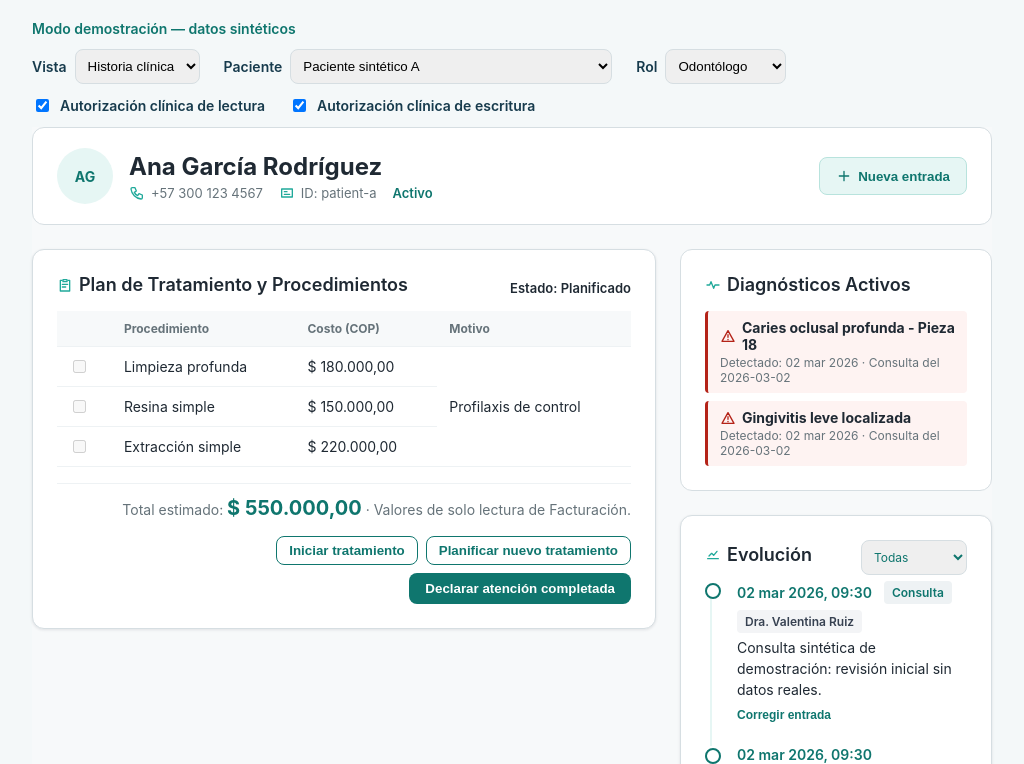
it: ClinicalPortalComposition › records a diagnosis linked to the selected consultation
The image size is (1024, 764).
Expected: the text "Consulta sintética de demostración: revisión inicial sin datos reales." is shown, [737, 636, 967, 700]
Click the button "Nueva entrada" at [893, 176], box [819, 157, 967, 195]
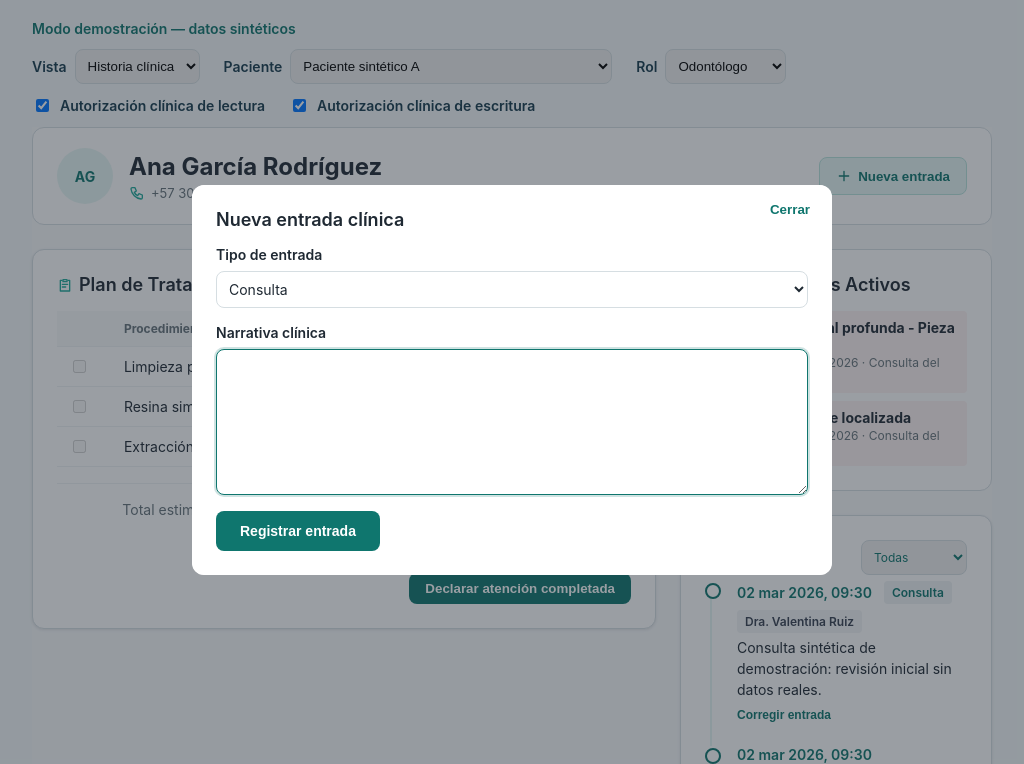
Select "Diagnóstico" in the dropdown labelled "Tipo de entrada" at [512, 290], box [216, 271, 808, 308]
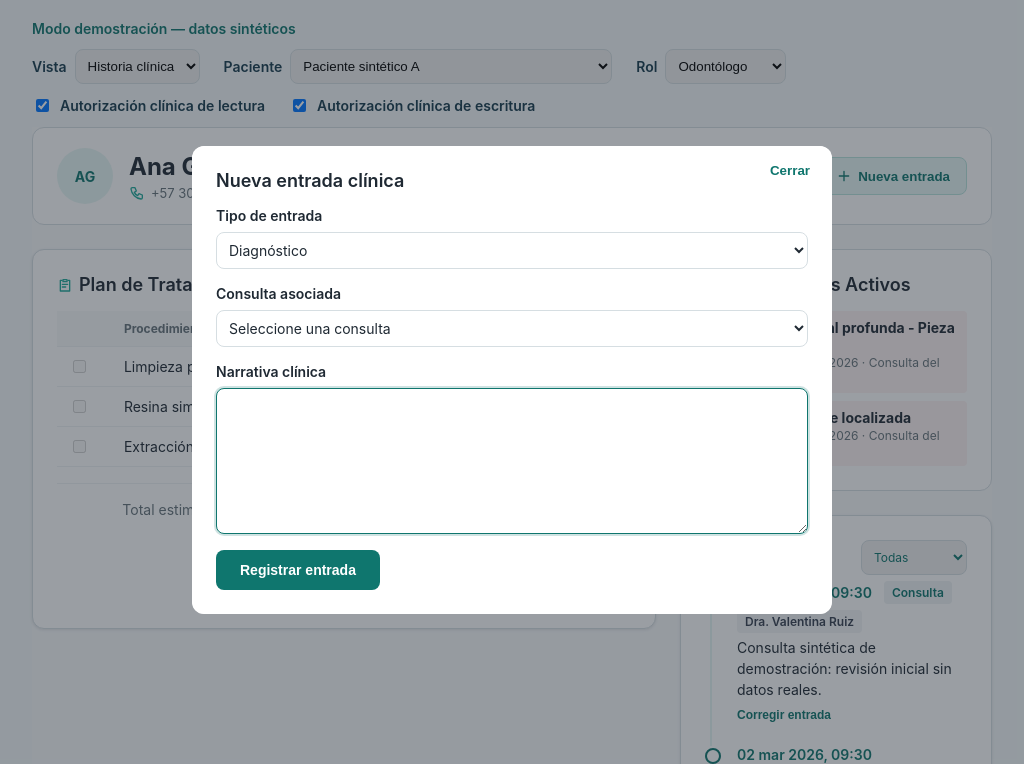
Select "2026-03-02 · Consulta sintética de demostración: revi…" in the dropdown labelled "Consulta asociada" at [512, 328], box [216, 310, 808, 347]
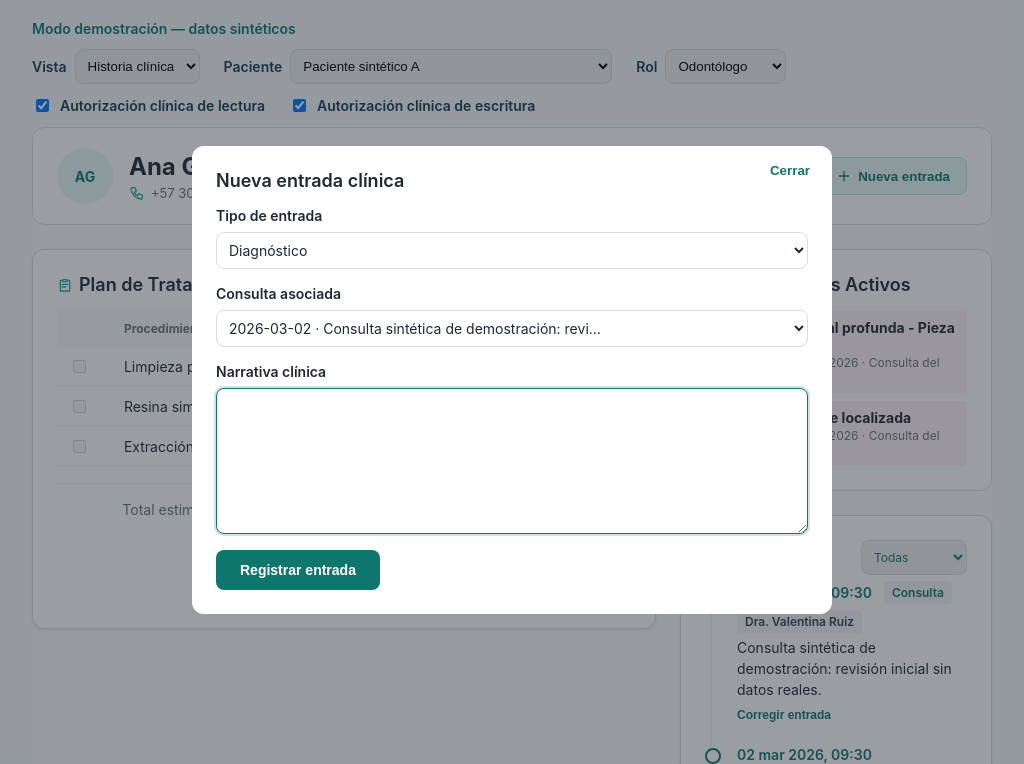
Type "Caries oclusal profunda" into the text box labelled "Narrativa clínica" at [512, 461], box [216, 388, 808, 534]
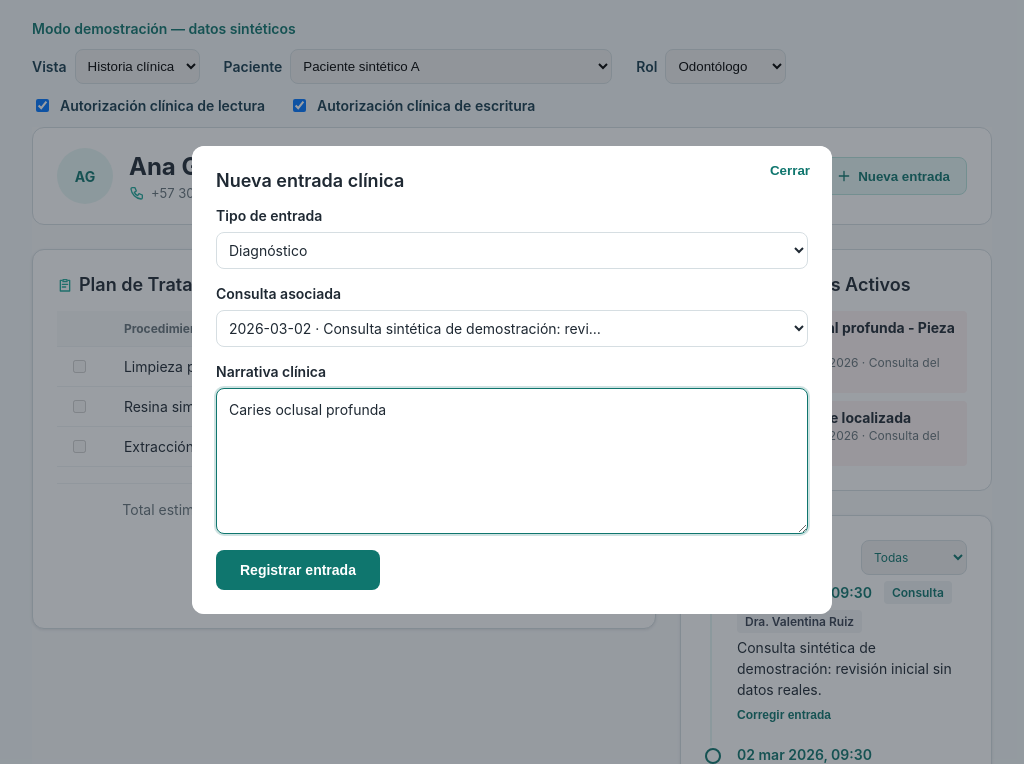
Click the button "Registrar entrada" at [298, 570], box [216, 550, 380, 590]
(page scrolled)
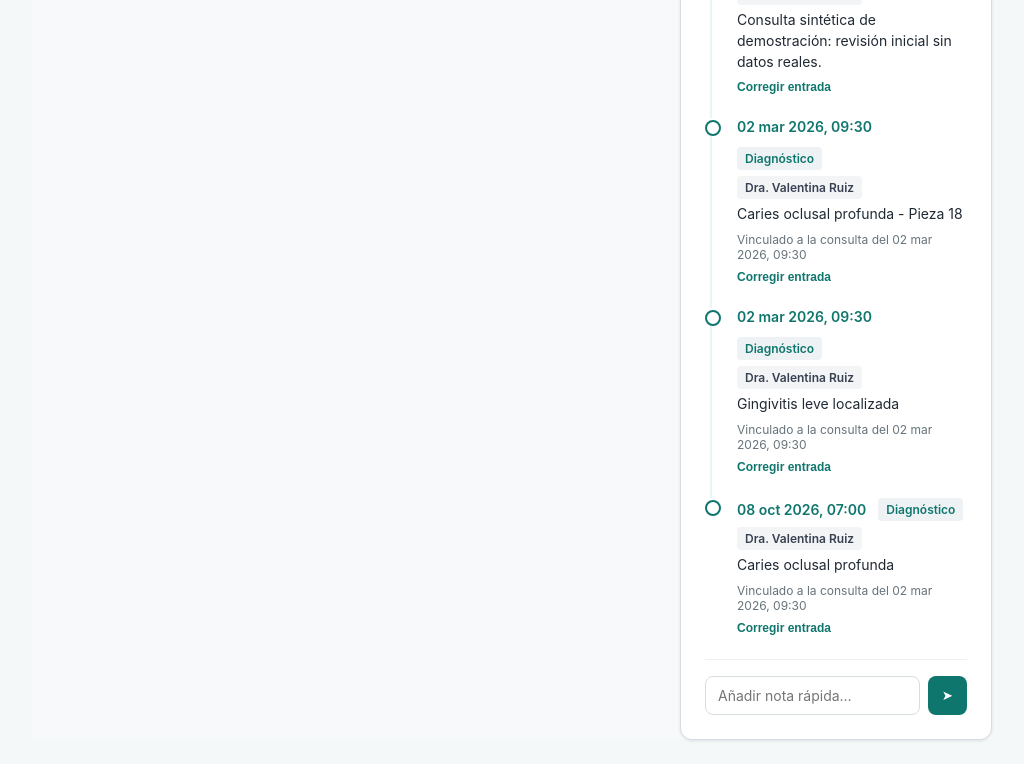
Result: the text "Caries oclusal profunda" is shown at [736, 554, 894, 572]
Result: the text "Diagnóstico" is shown 3 times at [737, 146, 822, 170]; [737, 336, 822, 360]; [878, 498, 963, 520]
